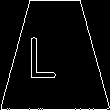L_N: (40, 30, 70, 80)
